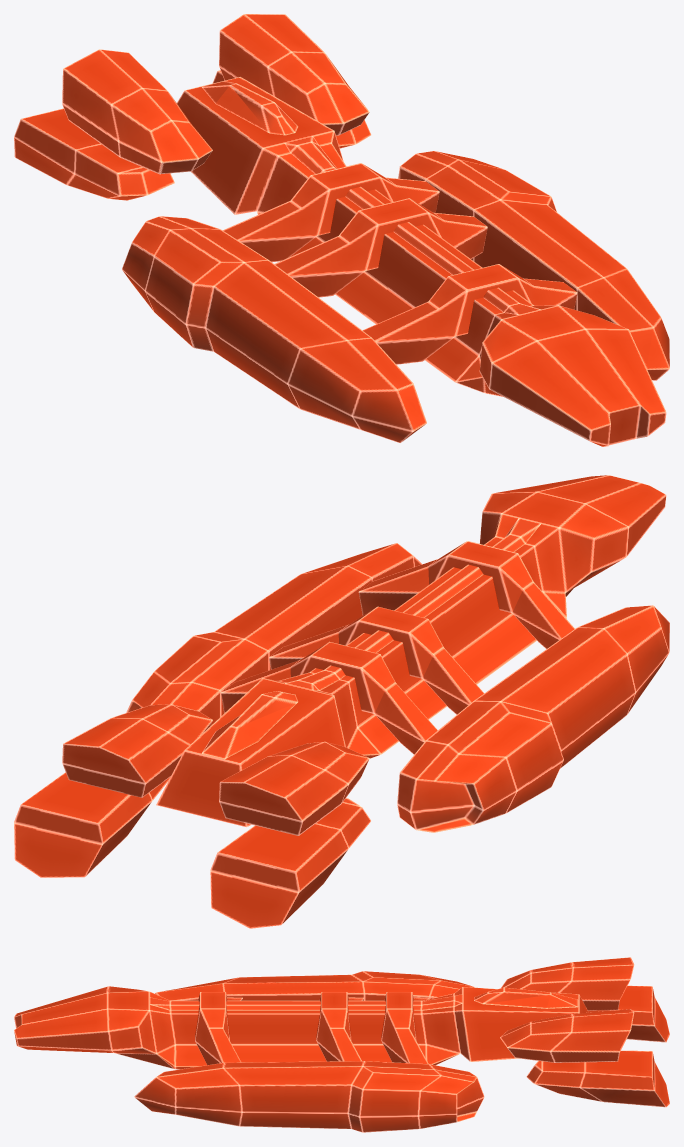
File: enemy_battleship.FBX
3 renders of one model, top to bottom at view 1: azimuth 30°, elevation 25°; view 2: azimuth 150°, elevation 25°; view 3: azimuth 270°, elevation 25°, orthographic. The views are drawn at different scales.
Parts seen in each view (by area): view 1: Battleship_enemy; view 2: Battleship_enemy; view 3: Battleship_enemy.
Part boxes in pixels (x1,y1,x2,y2): Battleship_enemy: (14,14,669,446); Battleship_enemy: (14,475,669,928); Battleship_enemy: (14,957,669,1132).
Bounding box in the file's own units: 182 × 62.15 × 405.
